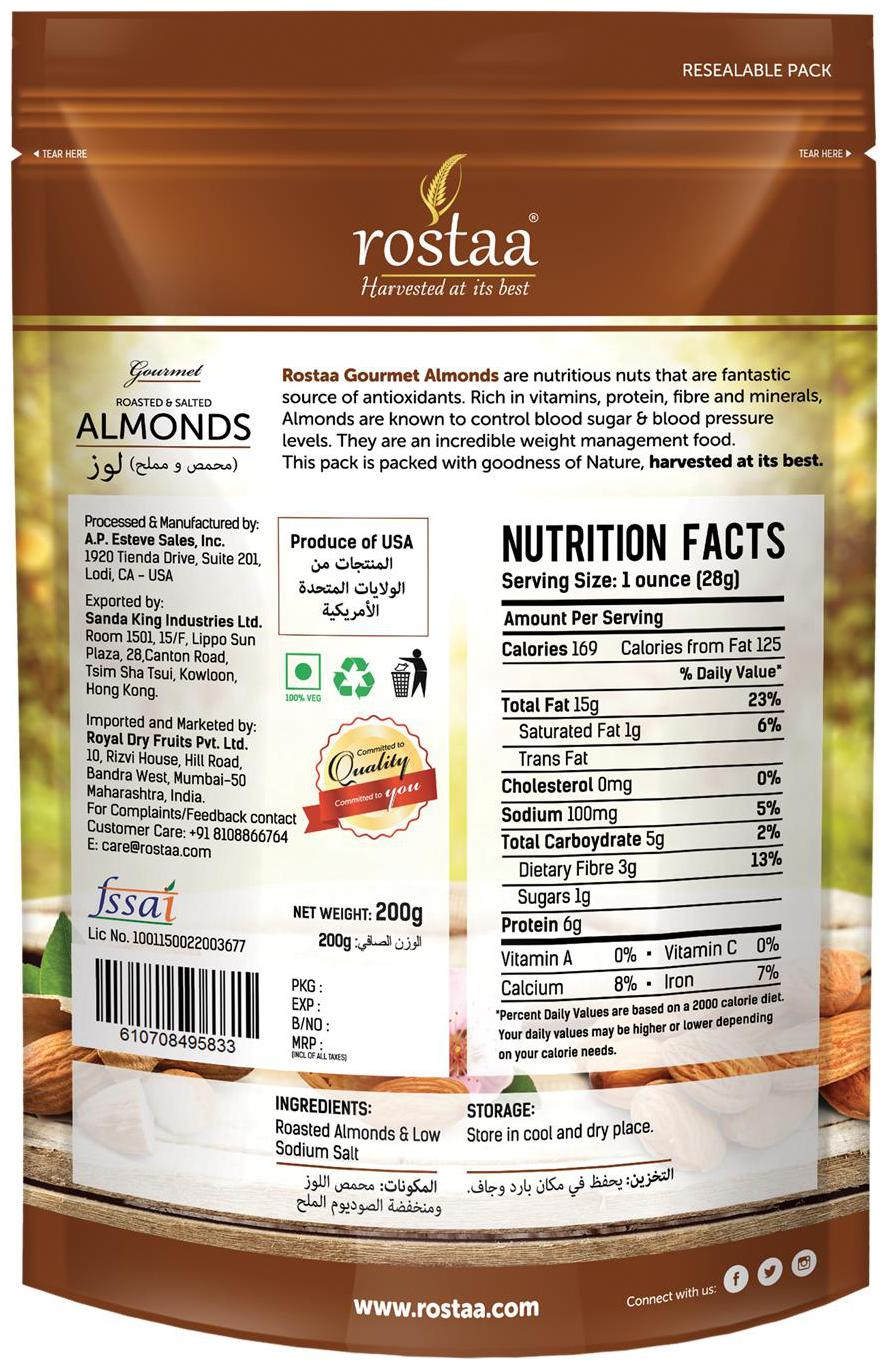fssai: (88, 873, 181, 926)
